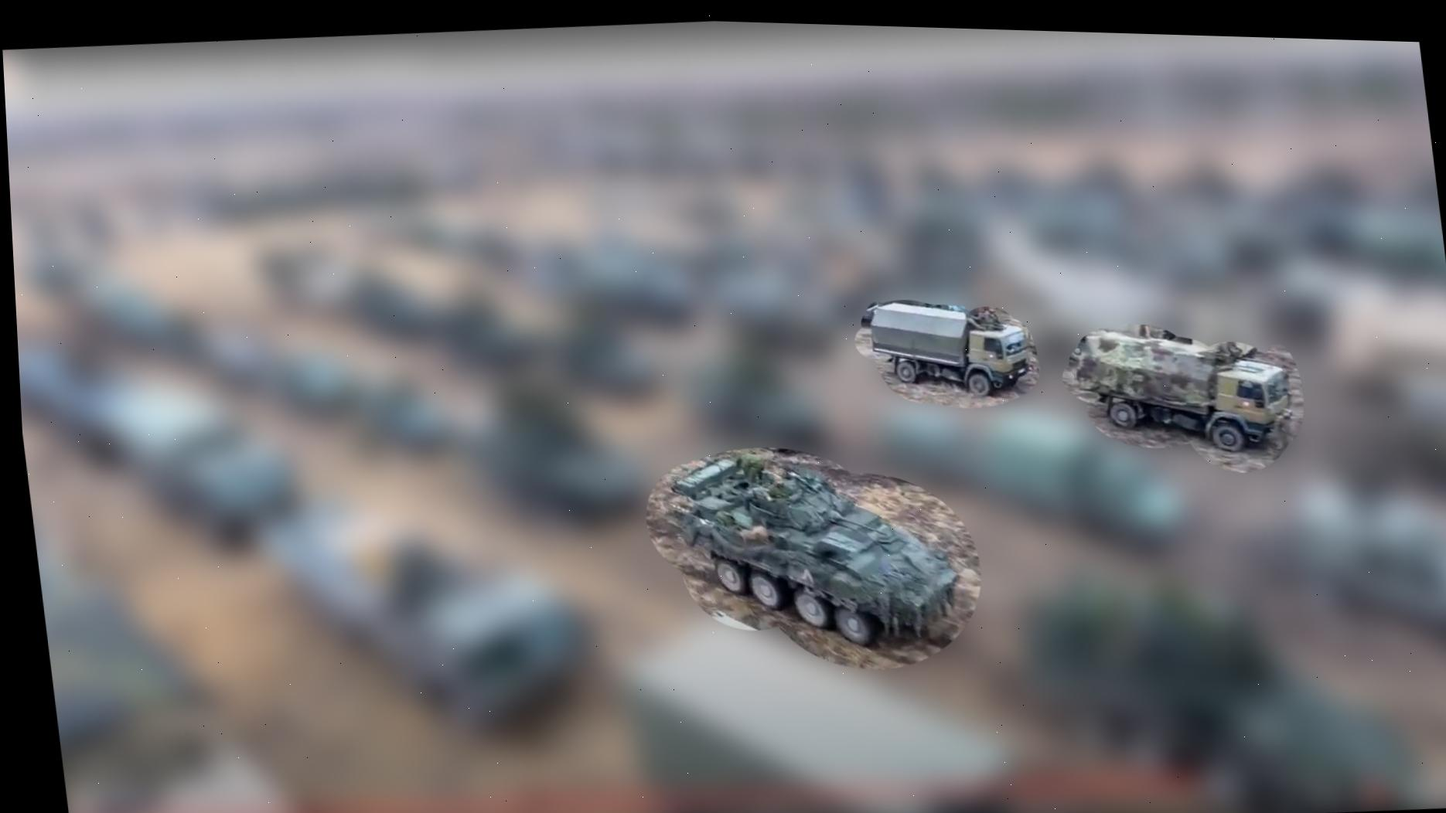armored_car: (655, 431, 975, 669)
truck: (1060, 312, 1304, 468), (860, 290, 1038, 409)
